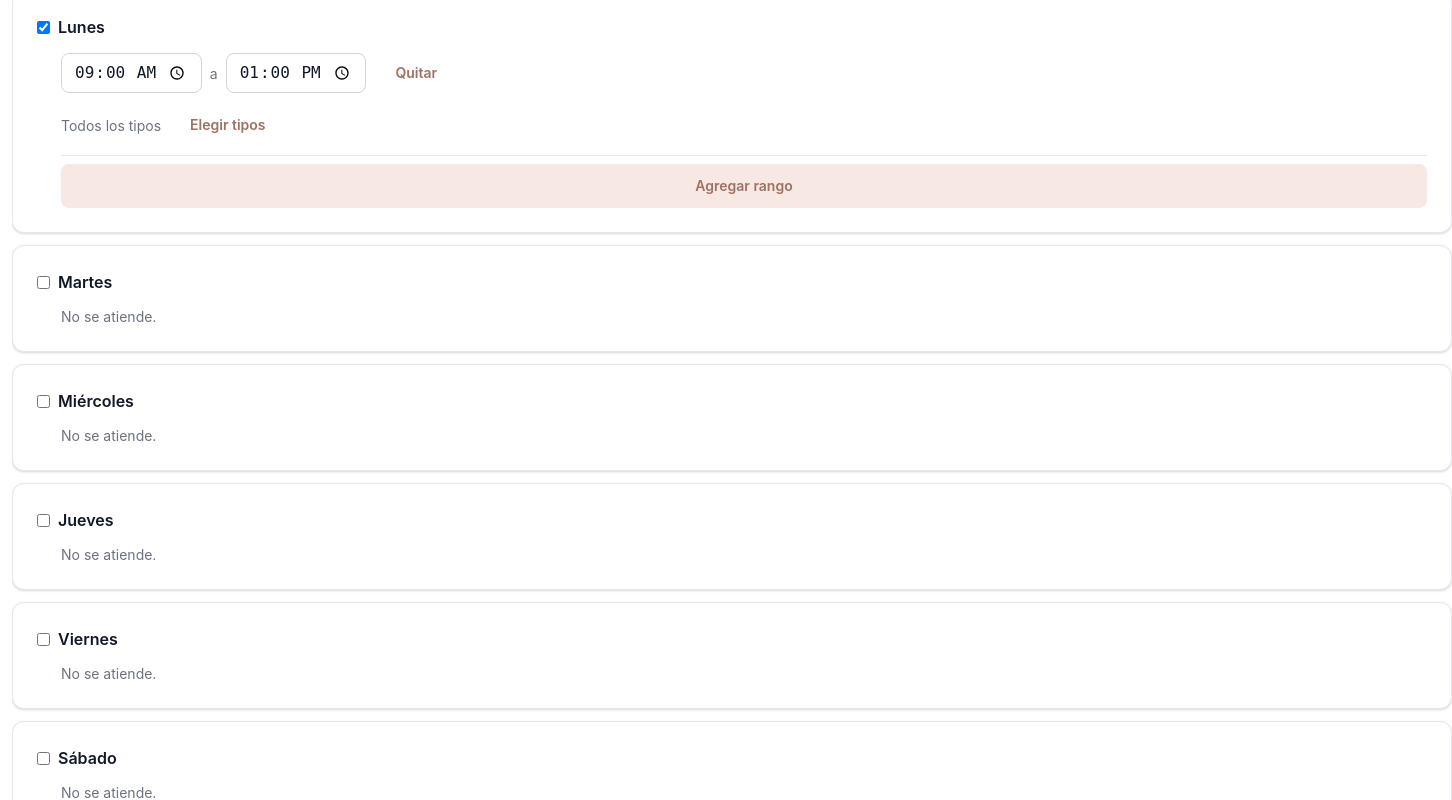
Test: ScheduleEditor › 10-minute grid › refuses to save a time off the grid
Replace the text in the time field named "Desde" with "09:05" at coordinates (131, 73), box [61,53,202,93]
(page scrolled)
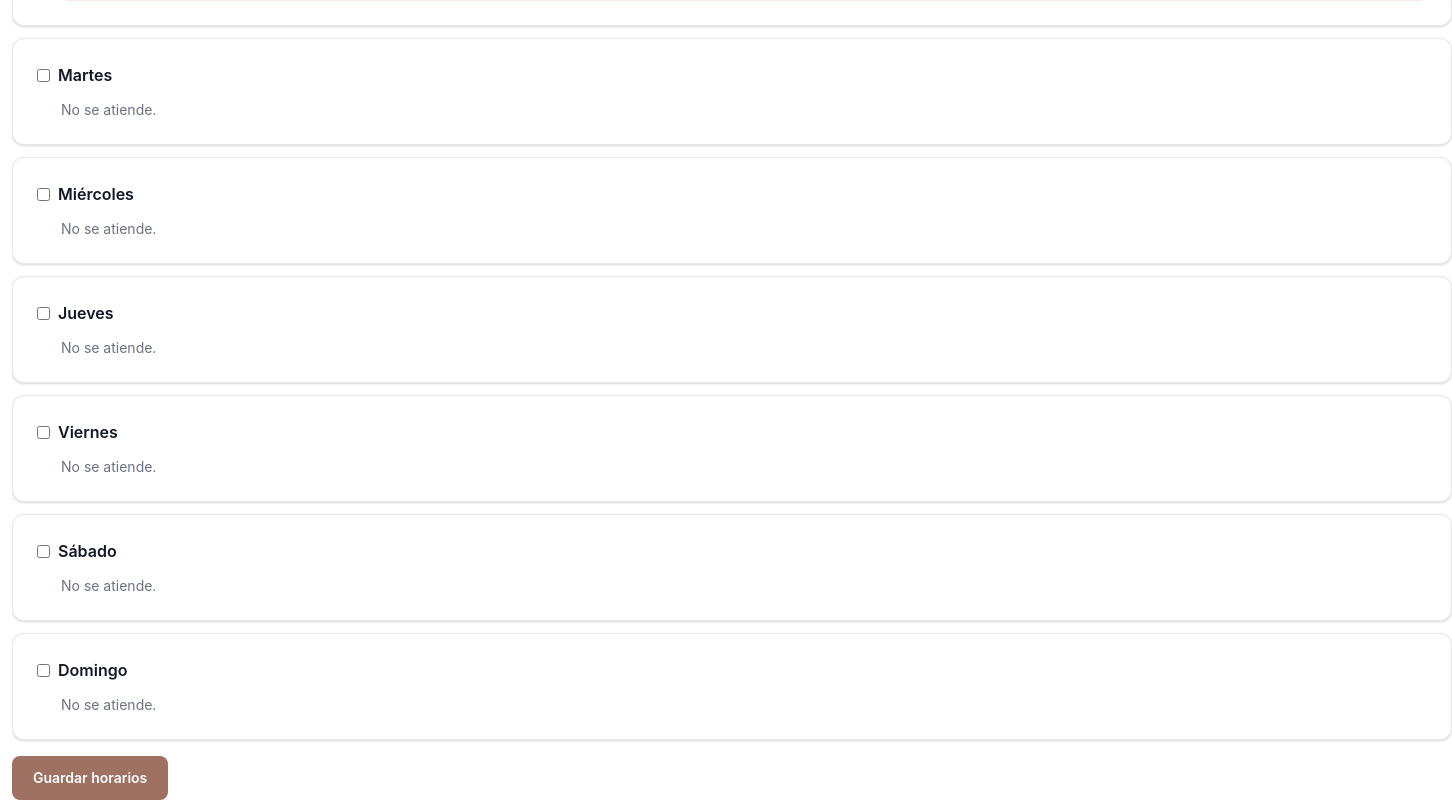
Click the button "Guardar horarios" at coordinates (90, 778), box [12,756,168,799]
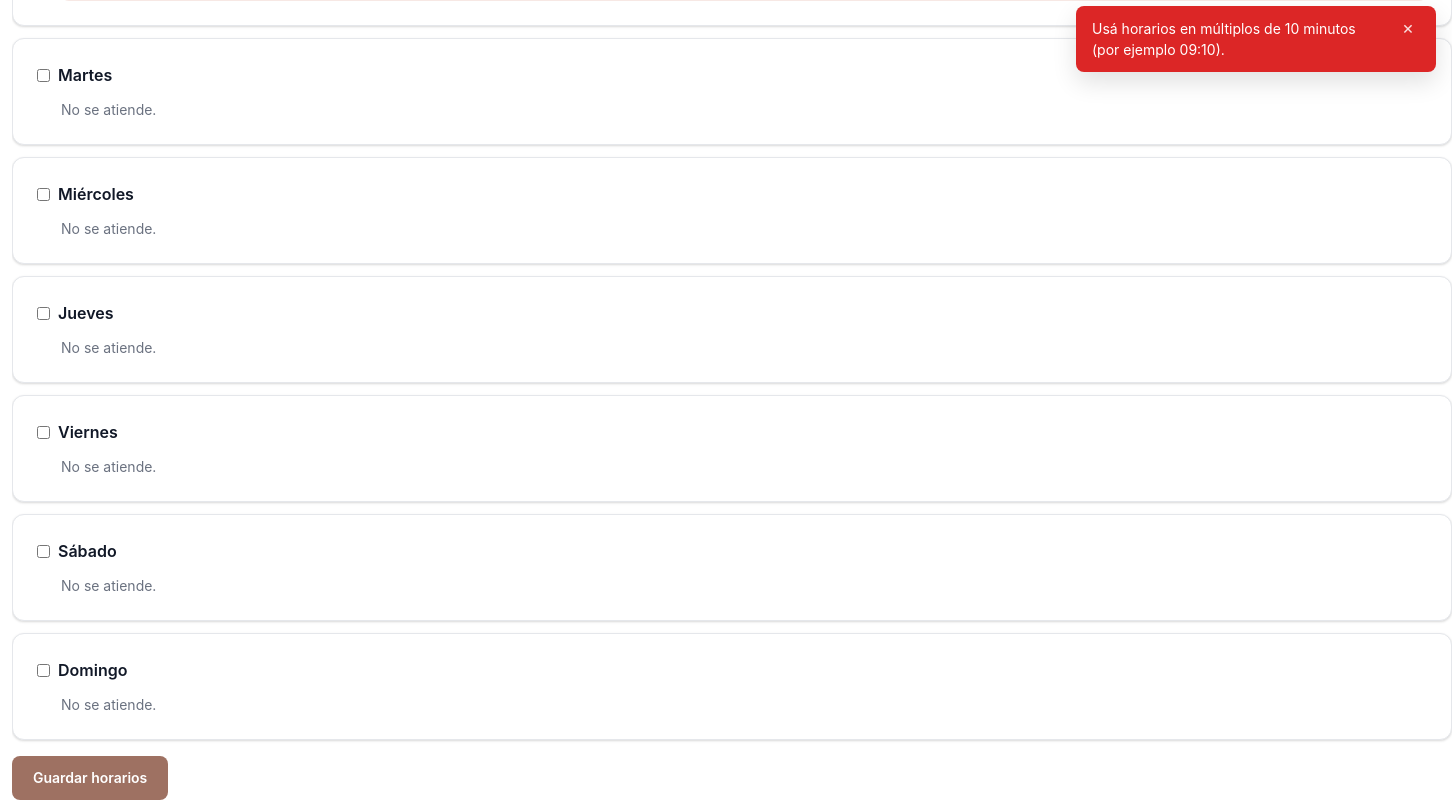
Result: the message shows "Usá horarios en múltiplos de 10 minutos" at [1092,20,1356,58]
